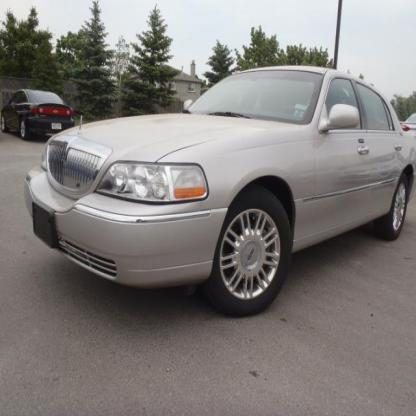Vehicle: (23, 63, 415, 318)
